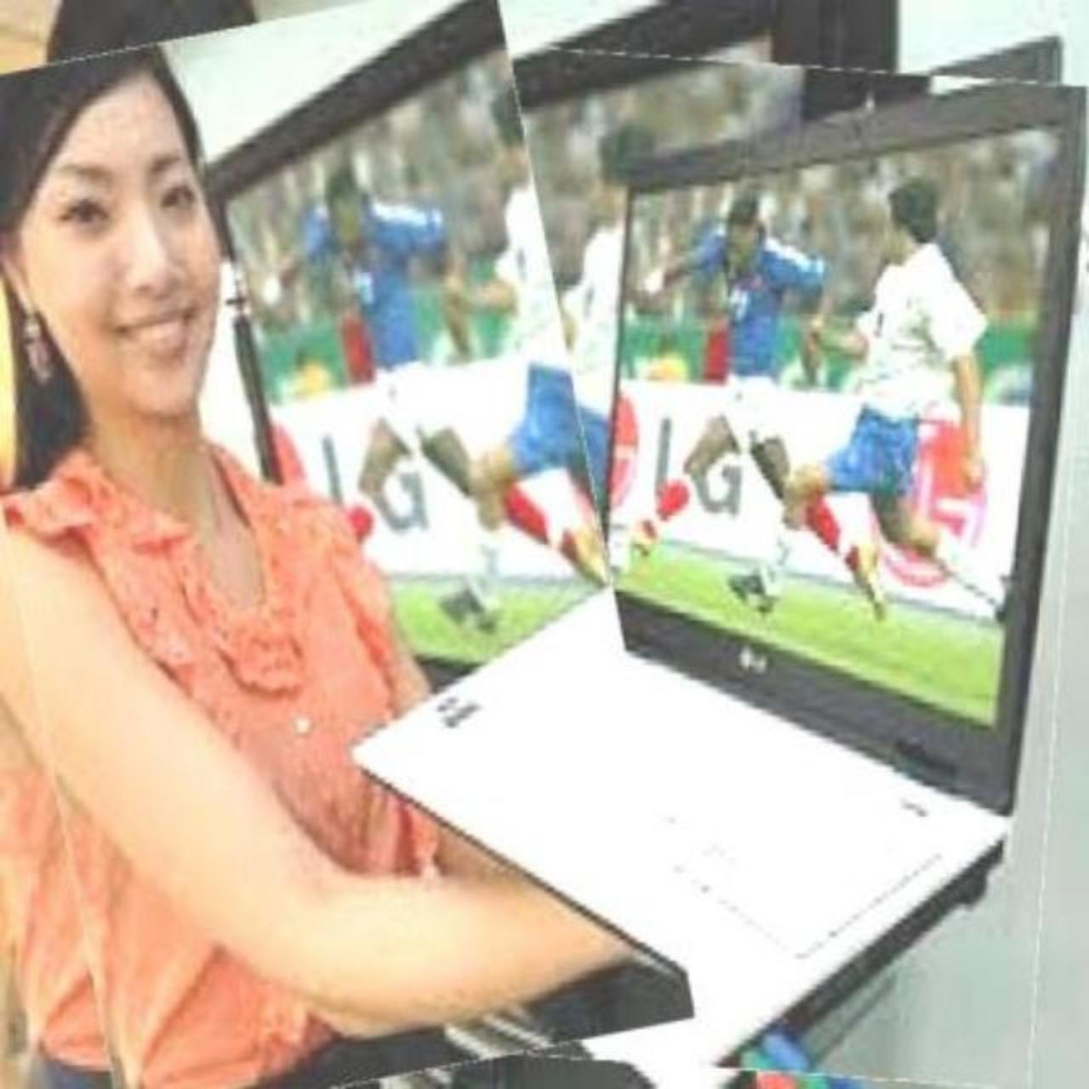laptop: (287, 48, 1081, 1079)
